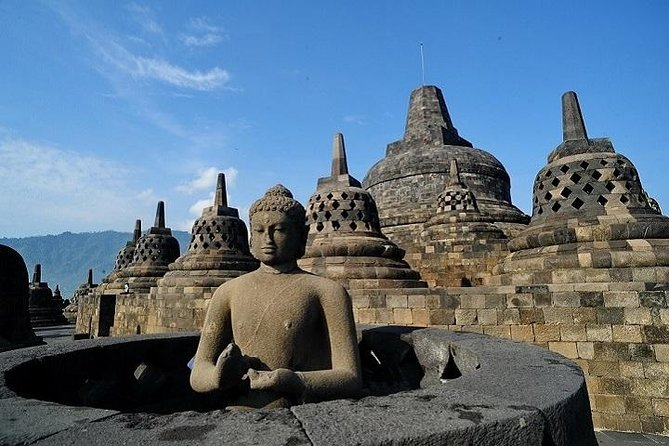Buddhist Temple: (139, 186, 359, 384)
